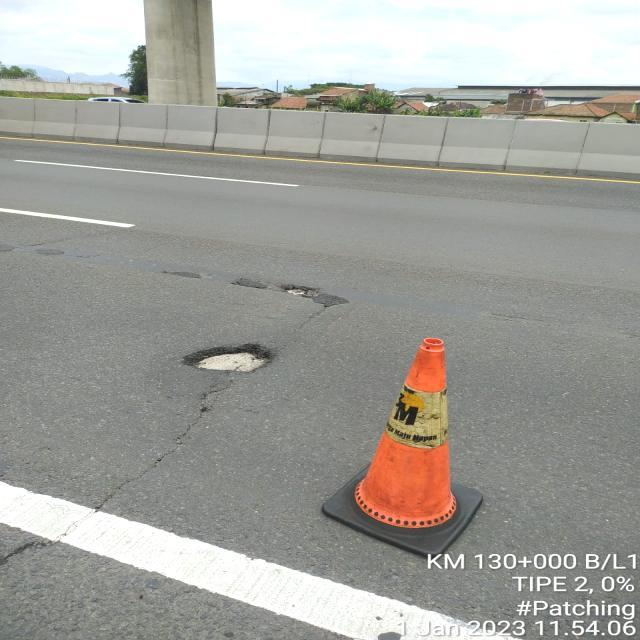Buraco: (179, 341, 277, 376), (276, 282, 326, 300)
